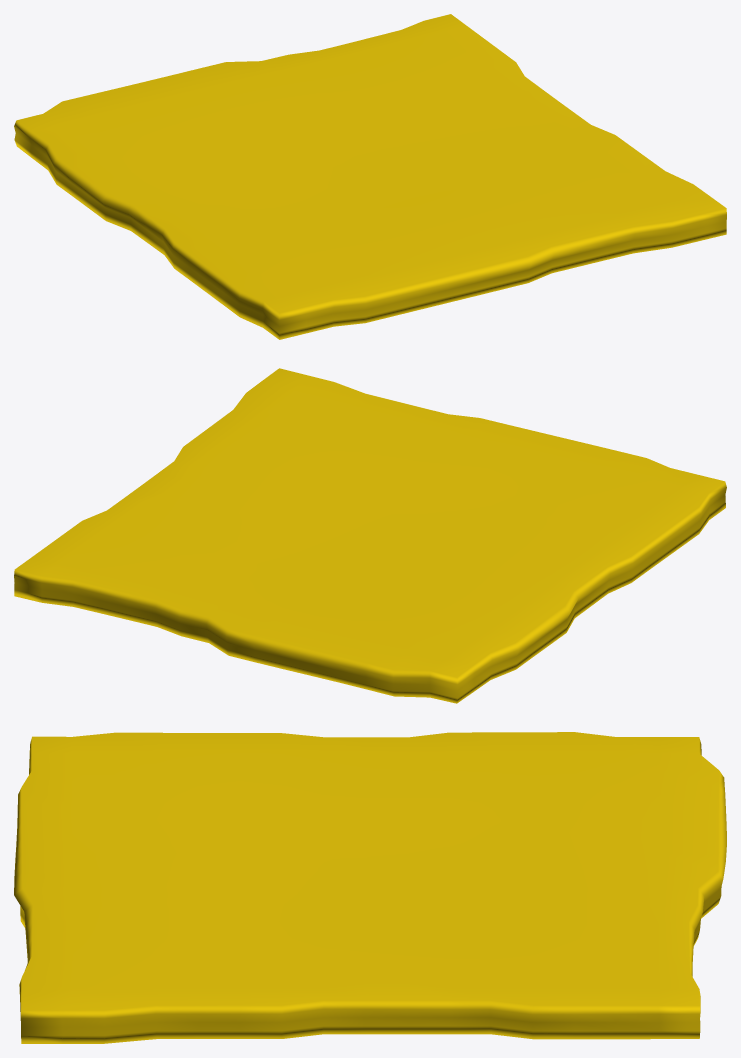
File: Cheese1.fbx
The picture shows the model from 3 angles, top to bottom: view 1: azimuth 30°, elevation 25°; view 2: azimuth 150°, elevation 25°; view 3: azimuth 270°, elevation 25°; orthographic projection. The views are drawn at different scales.
Visible parts, largest first — view 1: Cheese Slice 2; view 2: Cheese Slice 2; view 3: Cheese Slice 2.
Part boxes in pixels (<box>): Cheese Slice 2: <box>14,14,726,339</box>; Cheese Slice 2: <box>14,368,726,703</box>; Cheese Slice 2: <box>14,732,726,1043</box>.
Bounding box in the file's own units: 270 × 15.33 × 288.
